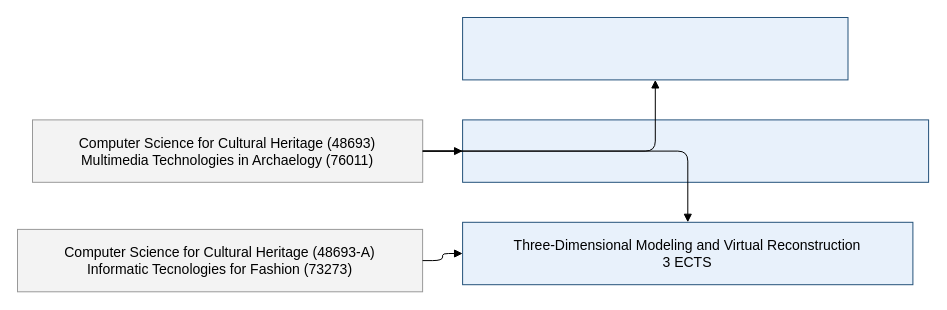
The diagram is 947 pixels wide and 310 high, and some of its shapes have lost their labels. Each missing label, with the centre of its shape:
"Cultural Heritage Communication and Digital Presentation 3 ECTS" belongs at [695,150].
"Digital Acquisition and Point-Cloud Processing 3 ECTS" belongs at [655,48].
